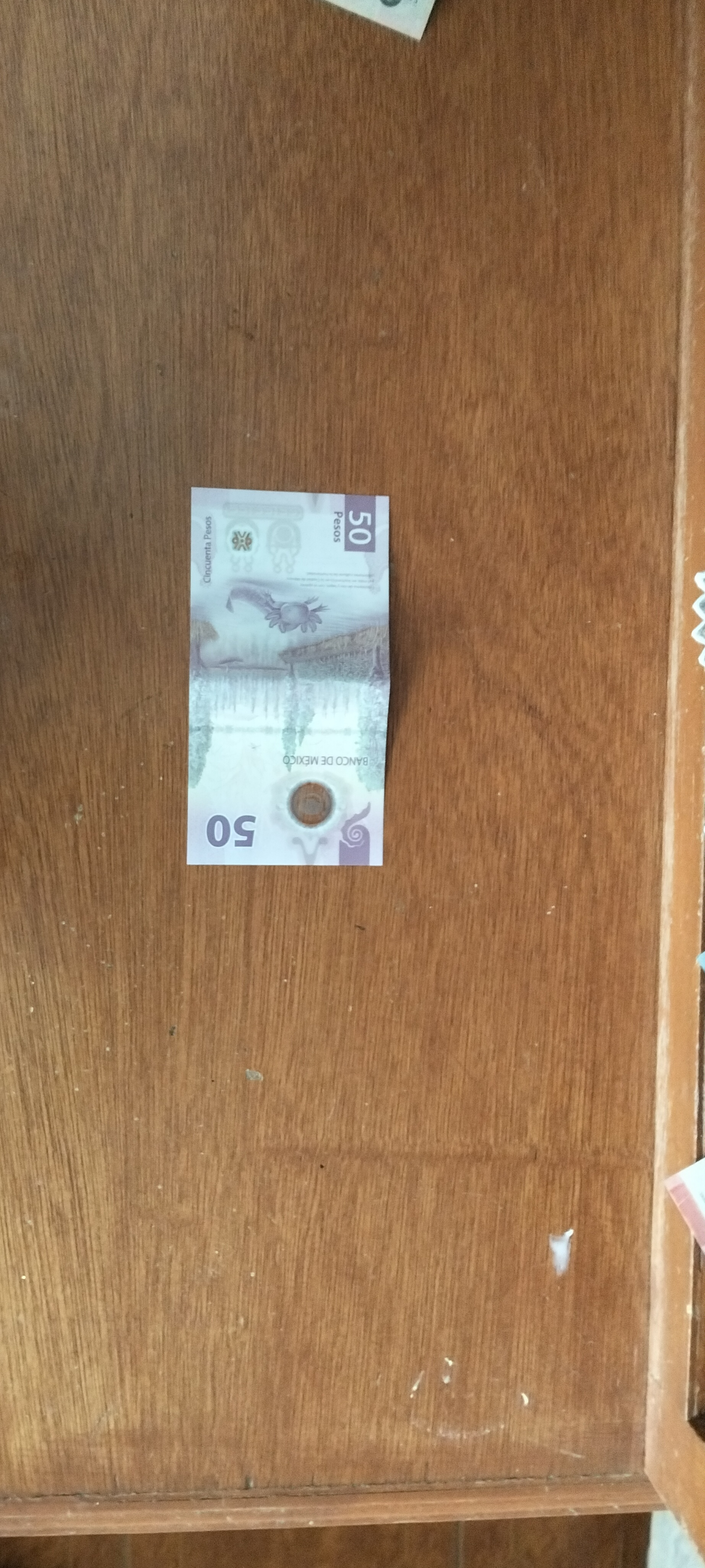billetes: (159, 474, 414, 890)
